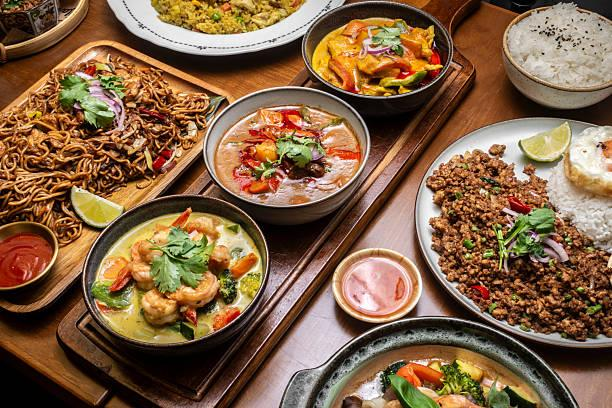Braised Crucian Carp: (0, 25, 254, 349), (413, 117, 609, 344), (79, 194, 266, 356), (204, 85, 367, 225), (301, 0, 451, 117)
